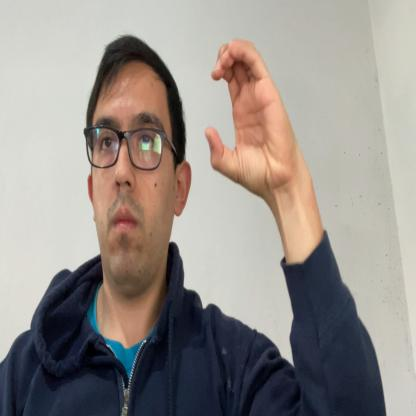C: (204, 37, 298, 194)
